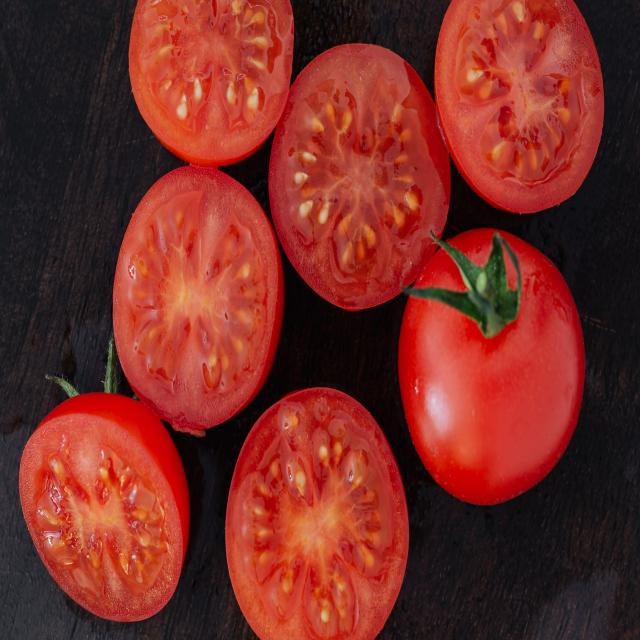Tomato: (12, 372, 199, 624), (103, 162, 280, 426), (227, 379, 395, 640), (273, 54, 440, 292)
